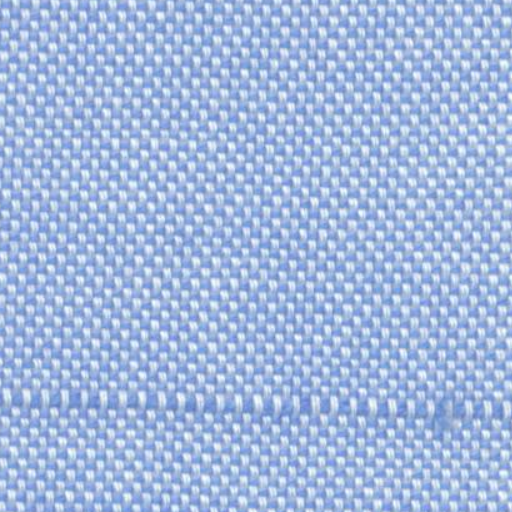DaiSha: (5, 374, 501, 435)
